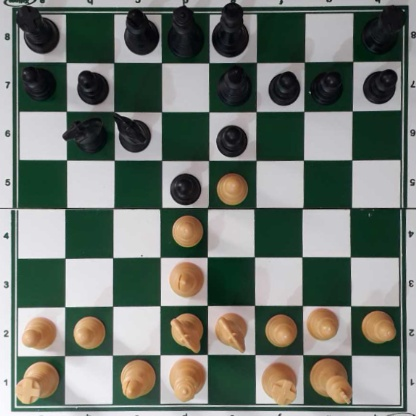black-bishop: (123, 7, 159, 54), (216, 65, 253, 105)
black-king: (214, 1, 250, 59)
black-knight: (112, 112, 151, 151), (66, 115, 106, 153)
black-pawn: (362, 67, 397, 104), (21, 65, 56, 101), (215, 123, 249, 157), (76, 67, 107, 104), (169, 171, 202, 205), (311, 69, 343, 104), (268, 70, 299, 105)
black-queen: (167, 5, 205, 56)
black-rook: (14, 3, 61, 55), (359, 6, 404, 53)
white-bishop: (119, 358, 154, 400), (169, 260, 204, 297)
white-king: (310, 357, 351, 405)
white-knight: (214, 312, 248, 351), (170, 314, 204, 352)
white-pawn: (19, 315, 58, 349), (360, 309, 395, 342), (72, 315, 106, 348), (307, 306, 339, 341), (215, 171, 249, 203), (171, 212, 203, 246), (265, 313, 297, 346)
white-queen: (169, 355, 204, 405)
white-rook: (14, 360, 59, 403), (261, 363, 298, 404)
